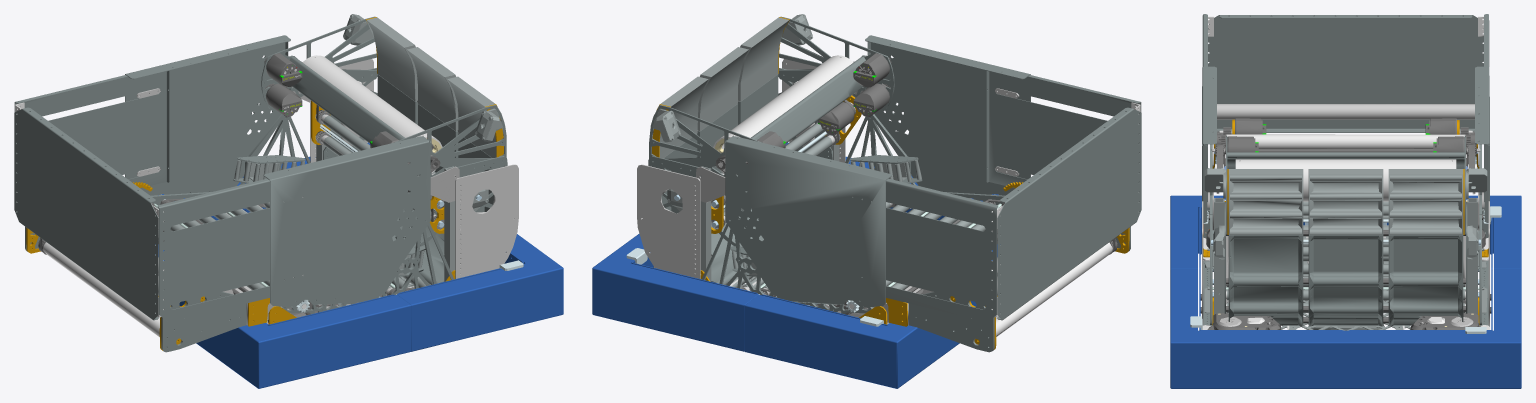
File: robot.glb
3 renders of one model, left to right at view 1: azimuth 30°, elevation 25°; view 2: azimuth 150°, elevation 25°; view 3: azimuth 270°, elevation 25°, orthographic.
Visible parts, largest first — view 1: chassis/0.25,0.3,0.3,1, hopper/0.25,0.3,0.3,1, chassis/bumper, chassis/0.35,0.4,0.4,1, chassis/0.65,0.65,0.65,1, intake/0.25,0.3,0.3,1, chassis/0.2,0.2,0.2,1, shooter-drum/0.9,0.9,0.9,1, intake-roller-0/0.9,0.9,0.9,1, chassis/0.75,0.35,0,1, intake/0.75,0.35,0,1, chassis/0.5,0.5,0.5,1 (+2 smaller); view 2: chassis/0.25,0.3,0.3,1, hopper/0.25,0.3,0.3,1, chassis/bumper, chassis/0.35,0.4,0.4,1, chassis/0.65,0.65,0.65,1, chassis/0.2,0.2,0.2,1, intake/0.25,0.3,0.3,1, shooter-drum/0.9,0.9,0.9,1, intake-roller-0/0.9,0.9,0.9,1, chassis/0.75,0.35,0,1, intake/0.75,0.35,0,1, chassis/0.5,0.5,0.5,1 (+1 smaller); view 3: chassis/bumper, chassis/0.25,0.3,0.3,1, hopper/0.25,0.3,0.3,1, chassis/0.35,0.4,0.4,1, intake/0.65,0.65,0.65,1, chassis/0.2,0.2,0.2,1, intake-roller-1/0.9,0.9,0.9,1, shooter-drum/0.9,0.9,0.9,1, intake/0.2,0.2,0.2,1, chassis/0.9,0.9,0.9,1, chassis/0.75,0.9,0.95,1, chassis/0.65,0.65,0.65,1 (+2 smaller).
Part boxes in pixels (bbox=[...]): chassis/0.25,0.3,0.3,1: bbox=[125, 16, 507, 314]; hopper/0.25,0.3,0.3,1: bbox=[14, 70, 269, 322]; chassis/bumper: bbox=[155, 142, 563, 388]; chassis/0.35,0.4,0.4,1: bbox=[234, 14, 503, 306]; chassis/0.65,0.65,0.65,1: bbox=[136, 59, 518, 292]; intake/0.25,0.3,0.3,1: bbox=[25, 226, 246, 352]; chassis/0.2,0.2,0.2,1: bbox=[158, 53, 460, 322]; shooter-drum/0.9,0.9,0.9,1: bbox=[302, 55, 442, 172]; intake-roller-0/0.9,0.9,0.9,1: bbox=[43, 242, 159, 337]; chassis/0.75,0.35,0,1: bbox=[268, 17, 503, 324]; intake/0.75,0.35,0,1: bbox=[26, 182, 269, 350]; chassis/0.5,0.5,0.5,1: bbox=[246, 87, 459, 325]; chassis/0.25,0.3,0.3,1: bbox=[648, 16, 1030, 314]; hopper/0.25,0.3,0.3,1: bbox=[886, 70, 1141, 322]; chassis/bumper: bbox=[592, 142, 998, 388]; chassis/0.35,0.4,0.4,1: bbox=[652, 14, 921, 306]; chassis/0.65,0.65,0.65,1: bbox=[637, 59, 1019, 292]; chassis/0.2,0.2,0.2,1: bbox=[653, 53, 1001, 322]; intake/0.25,0.3,0.3,1: bbox=[908, 226, 1130, 352]; shooter-drum/0.9,0.9,0.9,1: bbox=[713, 55, 855, 172]; intake-roller-0/0.9,0.9,0.9,1: bbox=[996, 242, 1112, 336]; chassis/0.75,0.35,0,1: bbox=[652, 17, 887, 324]; intake/0.75,0.35,0,1: bbox=[886, 182, 1129, 349]; chassis/0.5,0.5,0.5,1: bbox=[696, 87, 908, 325]; chassis/bumper: bbox=[1170, 195, 1521, 388]; chassis/0.25,0.3,0.3,1: bbox=[1202, 66, 1489, 326]; hopper/0.25,0.3,0.3,1: bbox=[1202, 14, 1489, 201]; chassis/0.35,0.4,0.4,1: bbox=[1204, 168, 1487, 330]; intake/0.65,0.65,0.65,1: bbox=[1212, 104, 1479, 166]; chassis/0.2,0.2,0.2,1: bbox=[1206, 136, 1485, 329]; intake-roller-1/0.9,0.9,0.9,1: bbox=[1226, 134, 1465, 150]; shooter-drum/0.9,0.9,0.9,1: bbox=[1235, 159, 1456, 201]; intake/0.2,0.2,0.2,1: bbox=[1216, 118, 1475, 167]; chassis/0.9,0.9,0.9,1: bbox=[1202, 164, 1489, 329]; chassis/0.75,0.9,0.95,1: bbox=[1190, 206, 1501, 333]; chassis/0.65,0.65,0.65,1: bbox=[1202, 201, 1489, 325].
Size of the model in its own units: 1.06 by 0.5556 by 0.8382.
